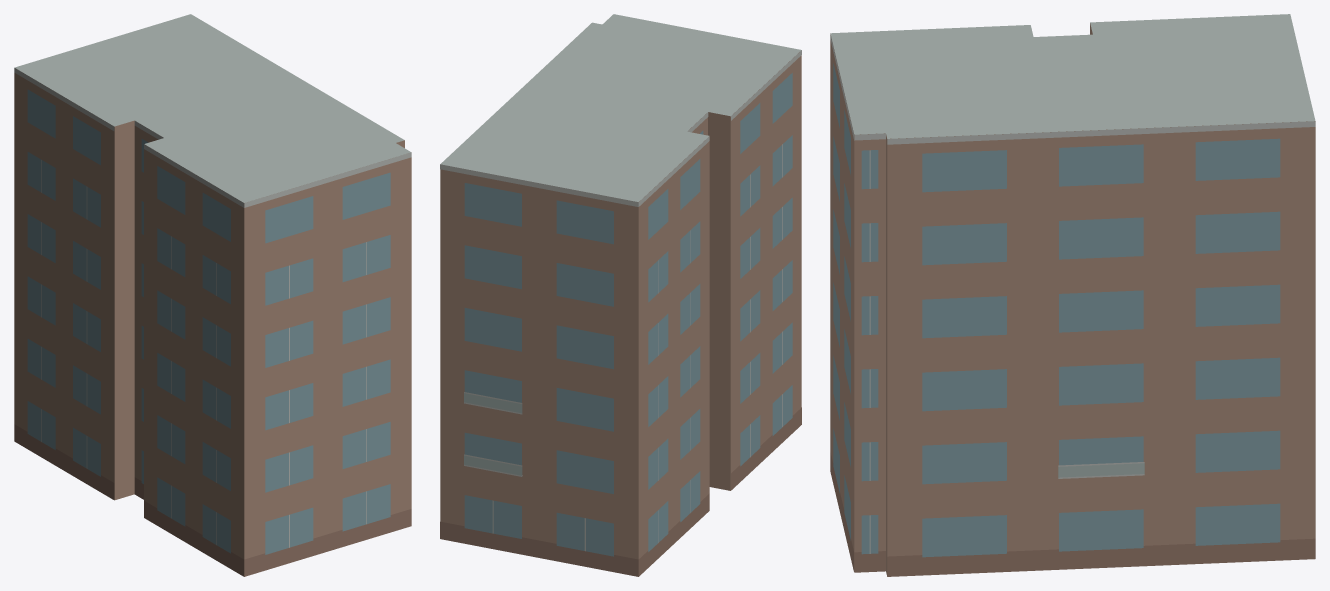
File: survey-upis-32633520.glb
3 views of the same model, side by side, from view 1: azimuth 30°, elevation 25°; view 2: azimuth 150°, elevation 25°; view 3: azimuth 270°, elevation 25° (orthographic). The views are drawn at different scales.
Parts seen in each view (by area): view 1: survey-upis-32633520.tmp; view 2: survey-upis-32633520.tmp; view 3: survey-upis-32633520.tmp.
Part boxes in pixels (x1,y1,x2,y2): survey-upis-32633520.tmp: [14, 14, 411, 576]; survey-upis-32633520.tmp: [440, 14, 801, 576]; survey-upis-32633520.tmp: [830, 14, 1315, 576].
Size of the model in its own units: 11.2 by 18.3 by 18.38.
